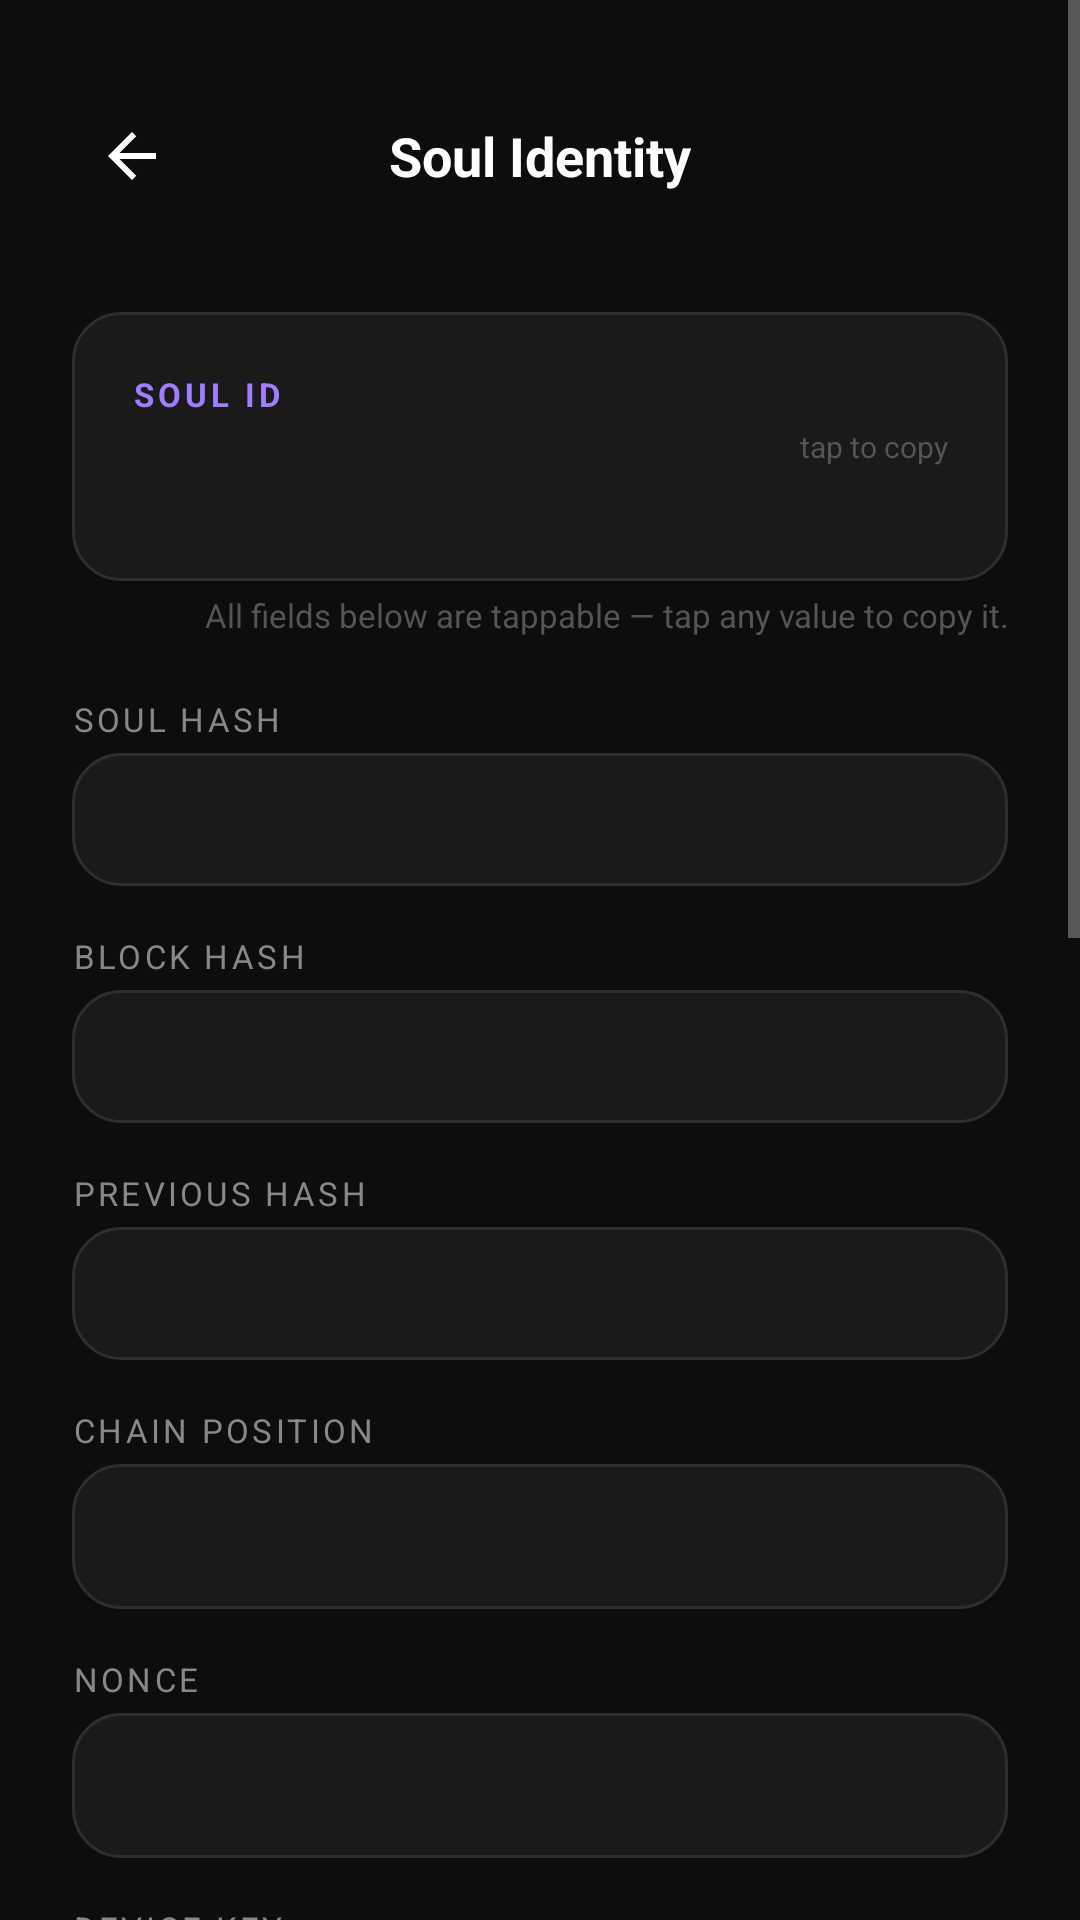

Icons on this 1080*1920 Android screen, each with its box as (x1, y1, x2, y2):
Back: (108, 132, 156, 180)
